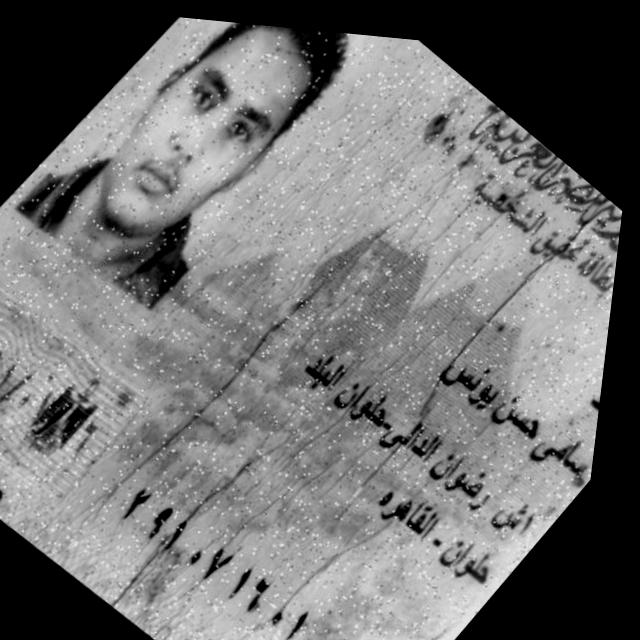id_card: (0, 17, 622, 640)
